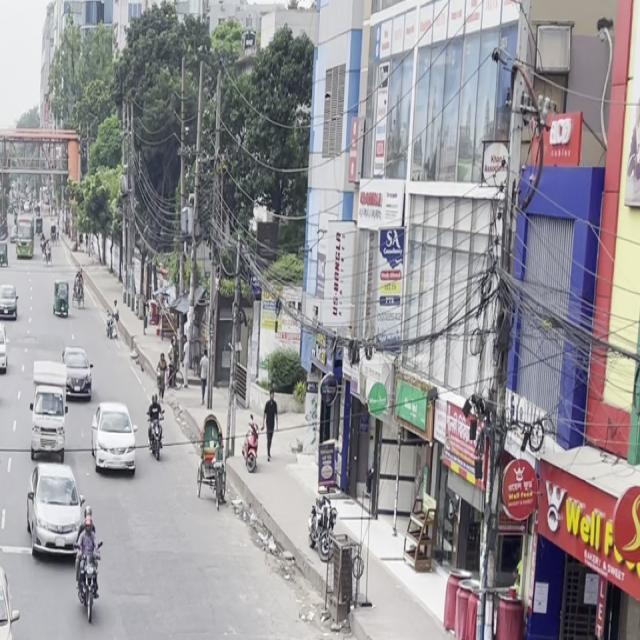car: (23, 455, 87, 571), (88, 392, 139, 484), (26, 361, 71, 465), (61, 336, 95, 408), (0, 550, 25, 640), (308, 636, 468, 640)
motorbike: (69, 504, 111, 630), (145, 392, 167, 464)
